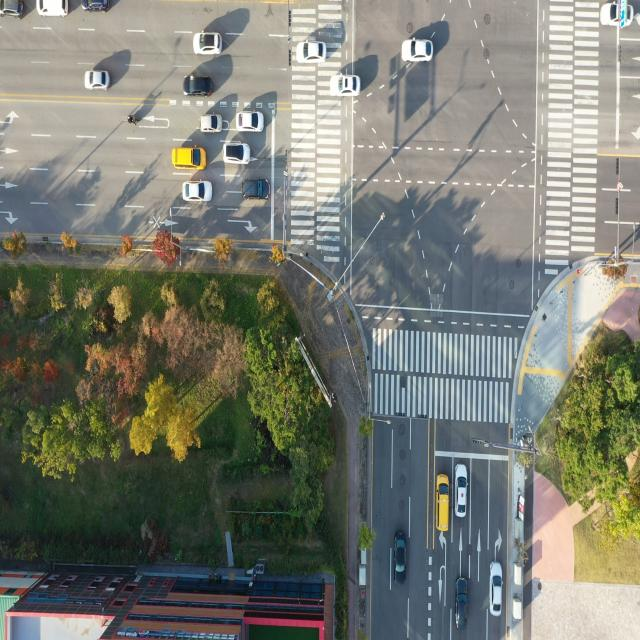car: (172, 144, 209, 170), (436, 474, 452, 534), (597, 0, 631, 28), (398, 40, 434, 64), (330, 75, 364, 100), (456, 464, 470, 522), (490, 560, 504, 618), (455, 578, 470, 632), (192, 30, 222, 57), (34, 0, 71, 21), (83, 65, 111, 91), (296, 39, 326, 63), (237, 110, 265, 134), (198, 114, 226, 138), (183, 180, 213, 202), (393, 530, 406, 578), (242, 179, 270, 201), (183, 76, 211, 98), (226, 143, 250, 164), (0, 0, 25, 20), (80, 0, 108, 16)
